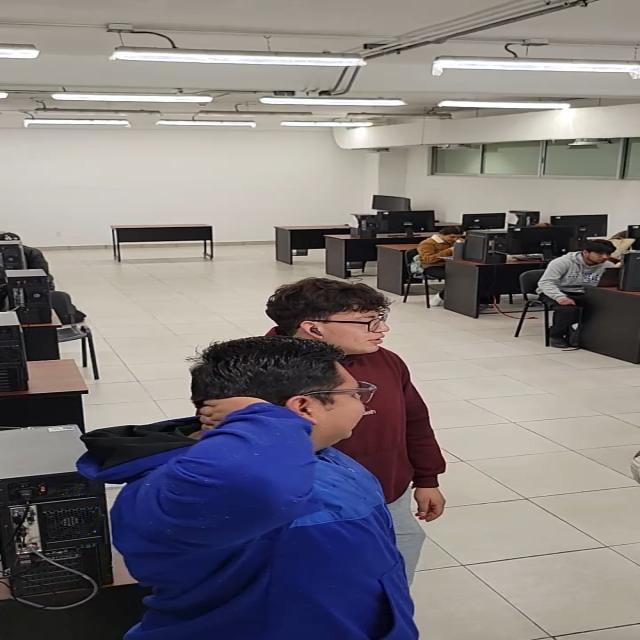Persona: (117, 331, 423, 640), (249, 274, 469, 583)
